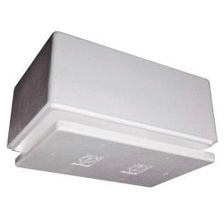foam_box: (3, 27, 222, 192)
